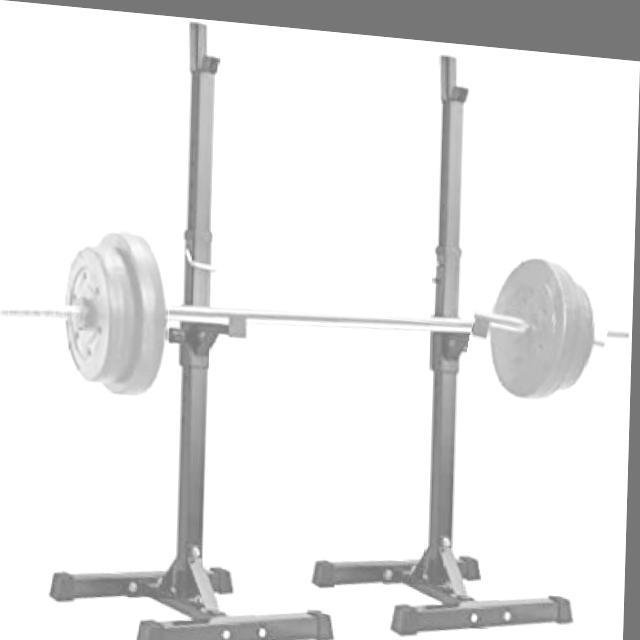barbell: (469, 212, 619, 410), (59, 210, 174, 407)
